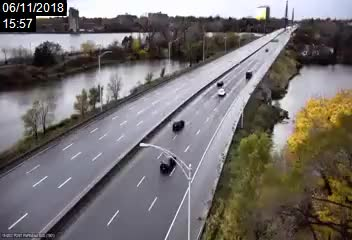personal_car: (158, 153, 179, 174), (171, 118, 186, 131), (243, 69, 253, 81), (217, 87, 226, 96), (216, 79, 224, 87)
